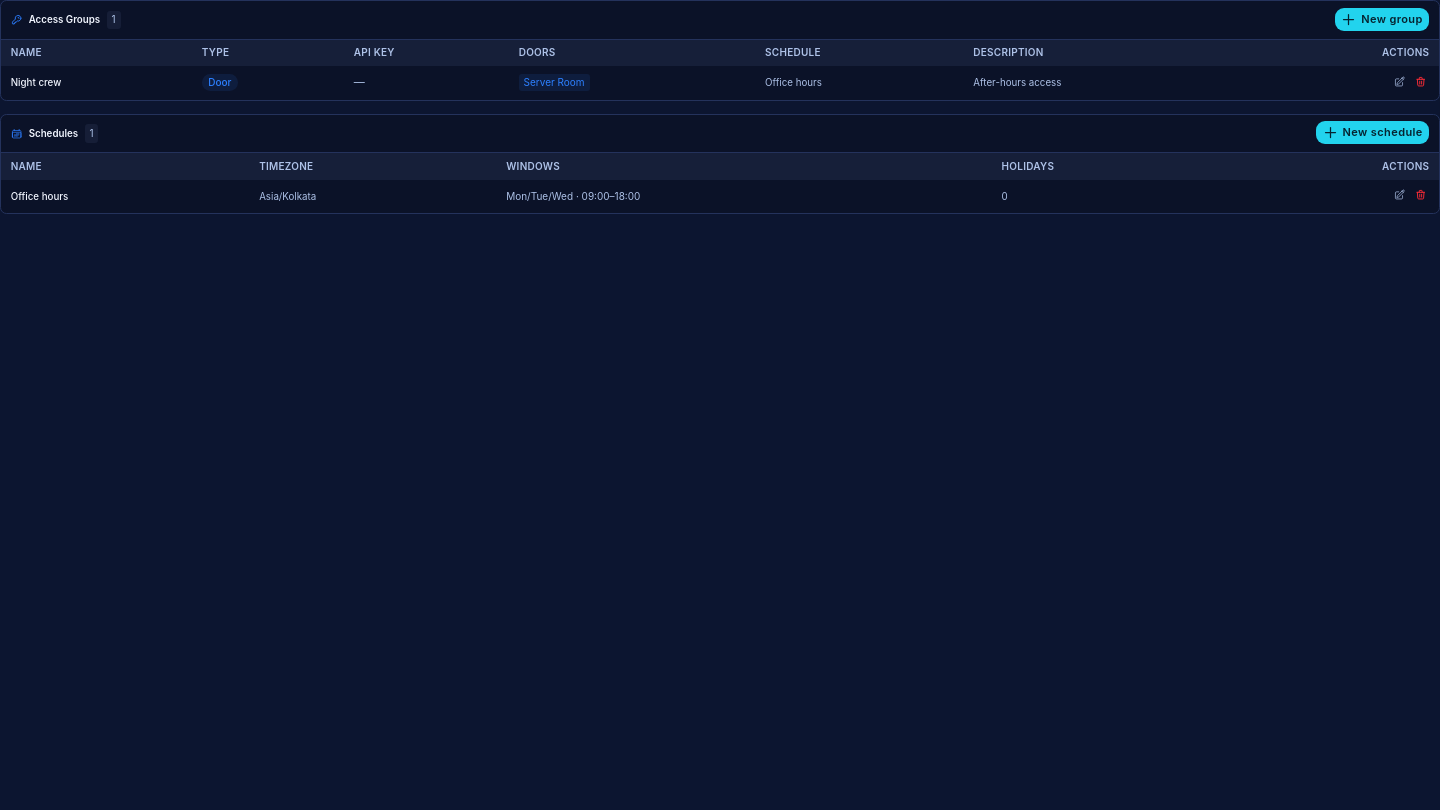
deleting a schedule › warns that its groups fall back to always-allowed before anything is sent
This screenshot has width=1440, height=810.
Click the button named "Delete" in the row of "Asia/Kolkata".
click(1420, 195)  # box top-left (1411, 186), bottom-right (1429, 204)
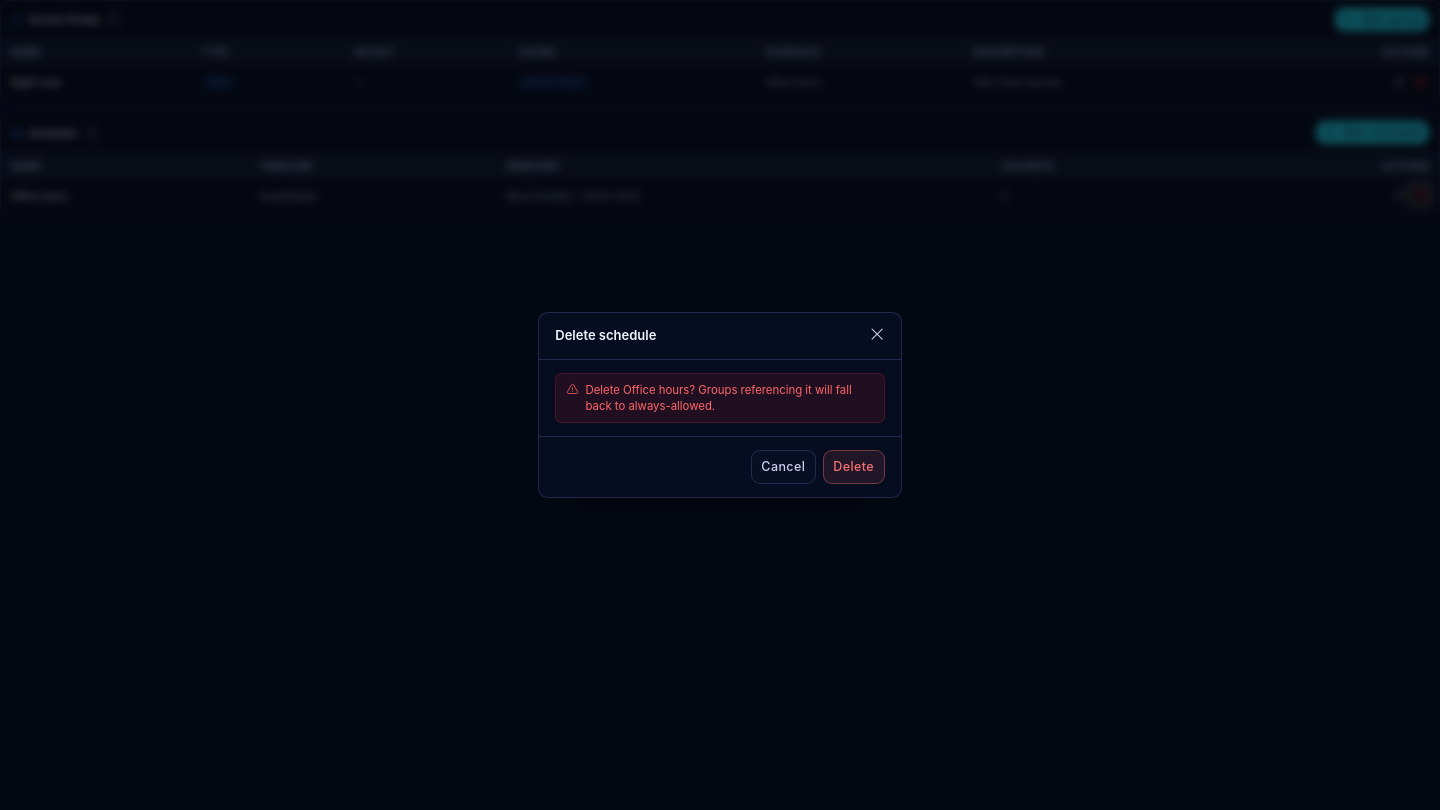
Expected: the text "fall back to always-allowed" is shown, top-left (586, 383), bottom-right (852, 413)
